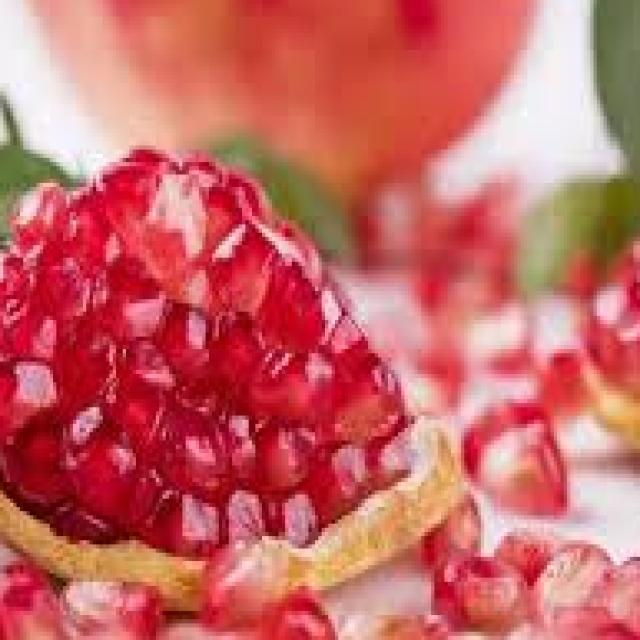inorganic: (3, 126, 611, 614)
